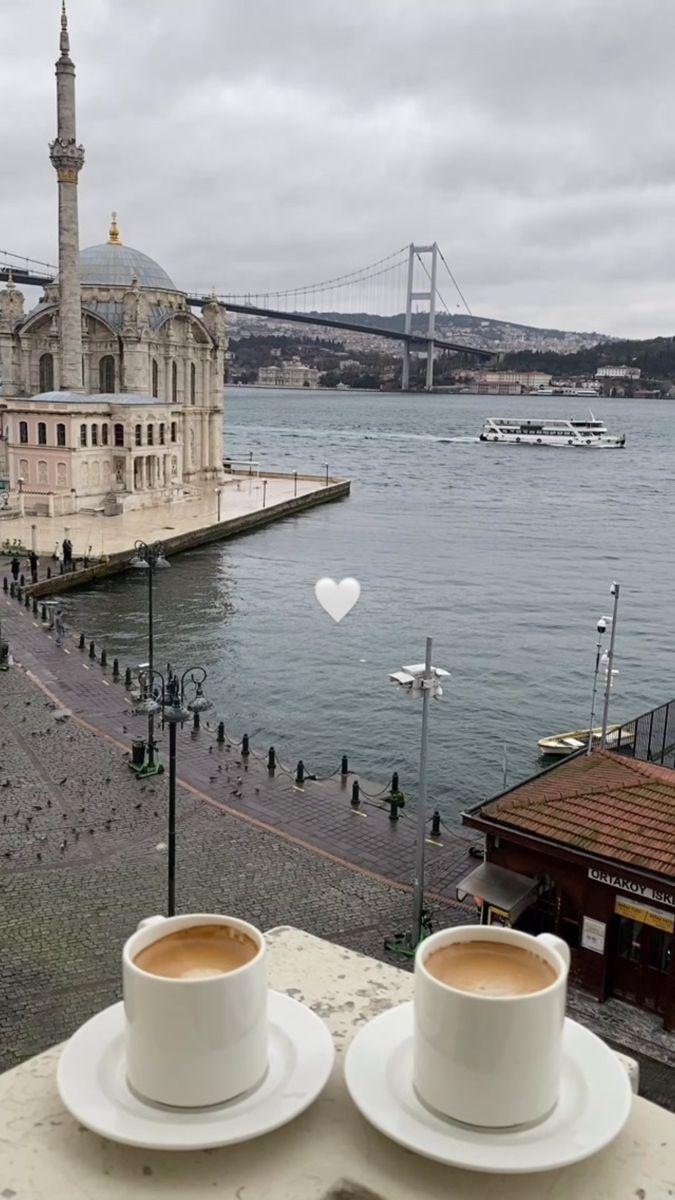cup-handle: (410, 922, 570, 1134), (119, 911, 271, 1109)
